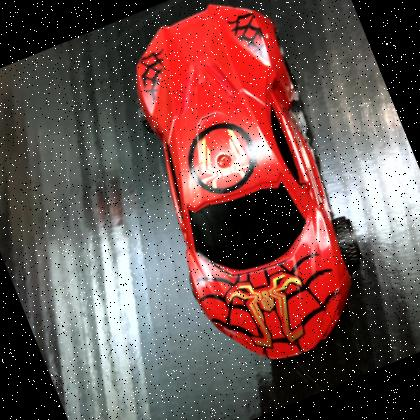Car: (136, 4, 353, 362)
